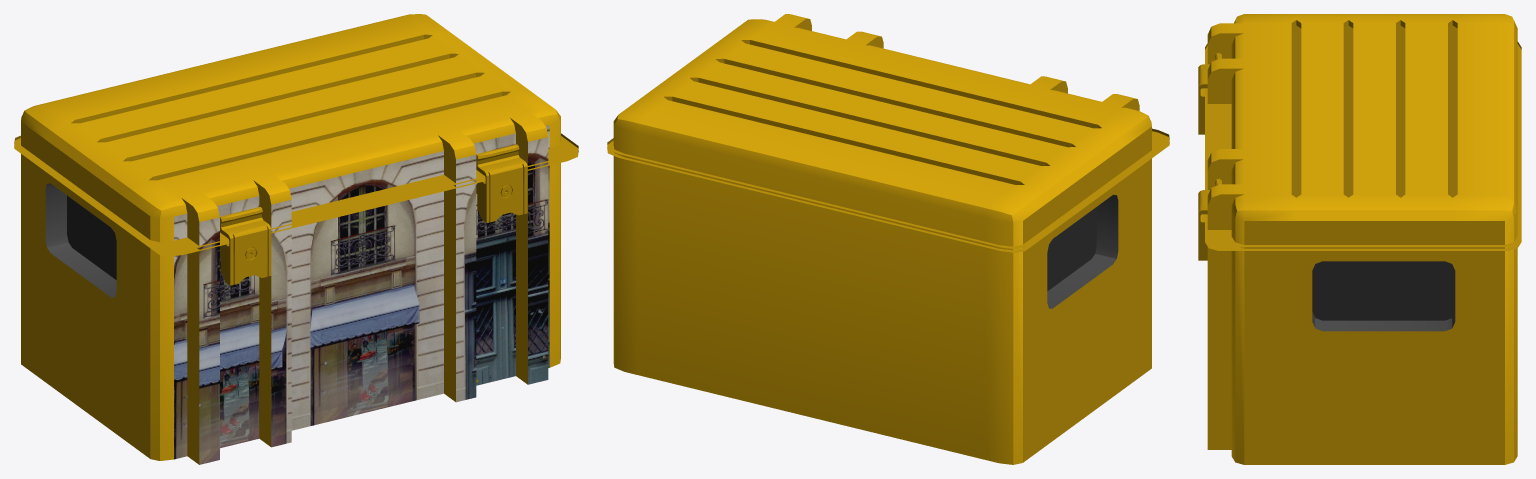
3 views of the same model, side by side, from view 1: azimuth 30°, elevation 25°; view 2: azimuth 150°, elevation 25°; view 3: azimuth 270°, elevation 25° (orthographic).
Parts seen in each view (by area): view 1: Cs Go Into2.001; view 2: Cs Go Into2.001; view 3: Cs Go Into2.001.
Boxes of the visible parts, x1,y1,x2,y2 form: Cs Go Into2.001: [14, 14, 578, 464]; Cs Go Into2.001: [607, 14, 1169, 464]; Cs Go Into2.001: [1198, 14, 1521, 464].
Bounding box in the file's own units: 3.28 × 1.9 × 2.17.
